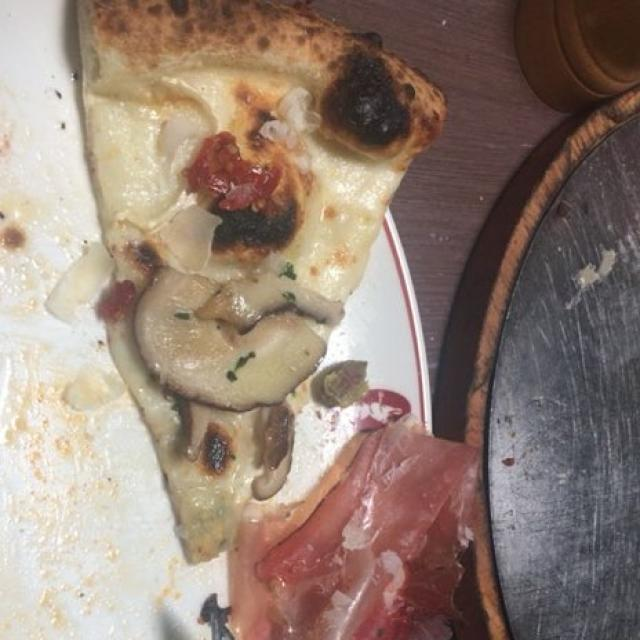cheese: (105, 80, 364, 277)
ham: (254, 418, 479, 629)
mushrooms: (140, 269, 322, 493)
